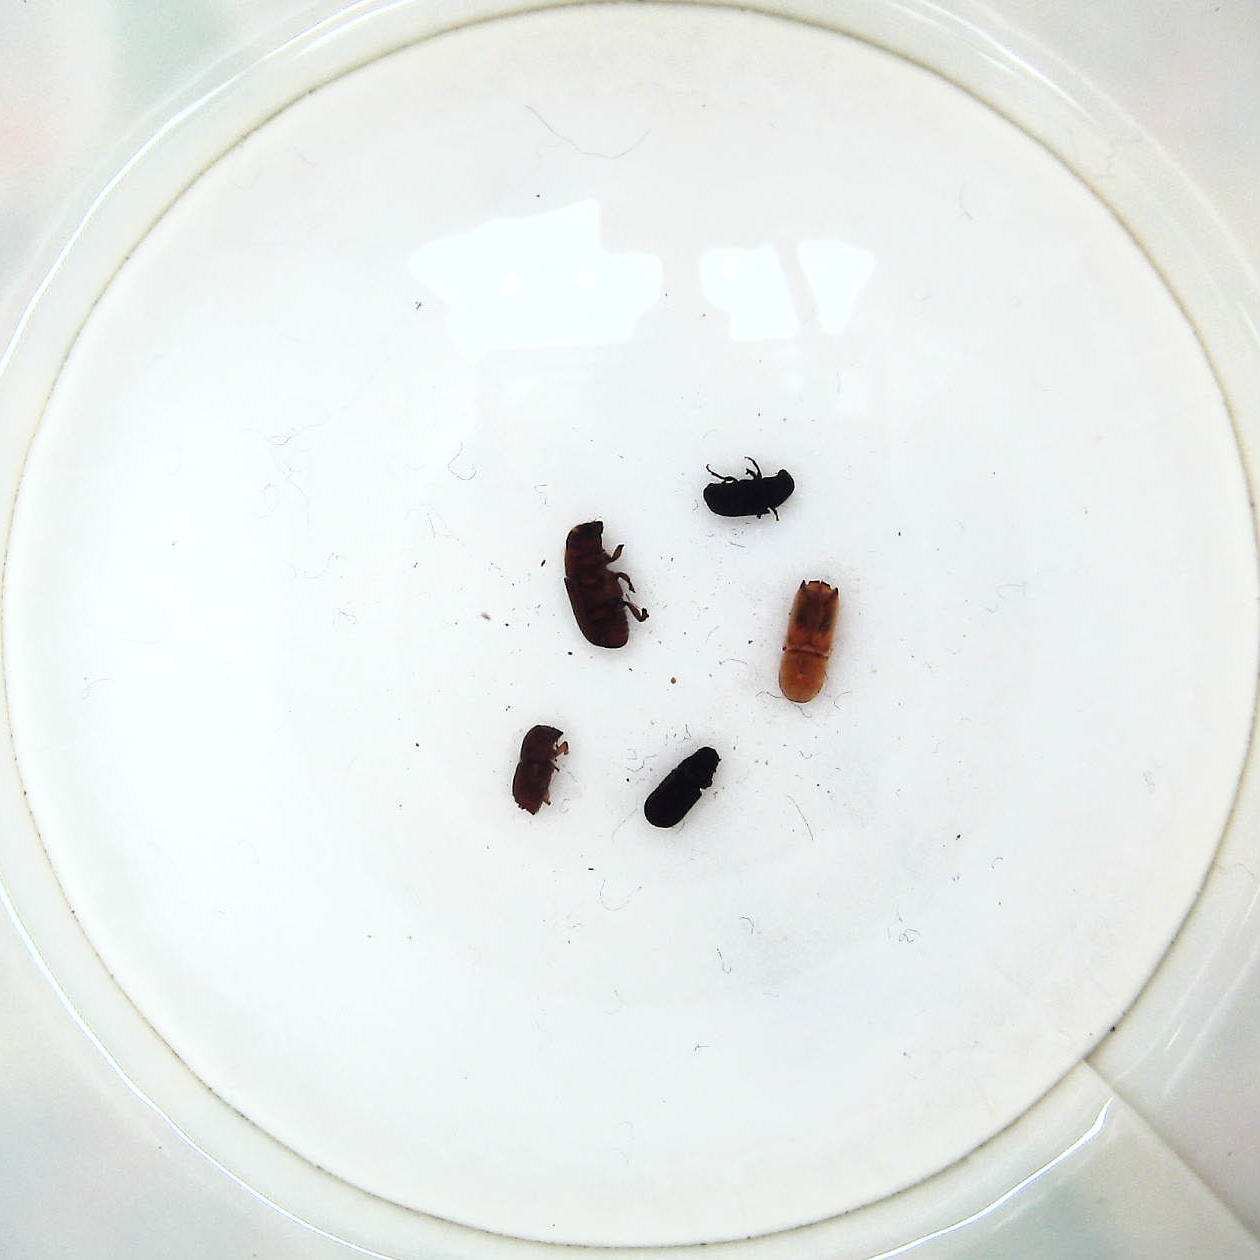Boerner: (774, 573, 842, 707)
Leconte: (561, 519, 654, 653)
armandi: (644, 741, 725, 831)
coleoptera: (695, 458, 798, 526)
linnaeus: (510, 722, 573, 817)
